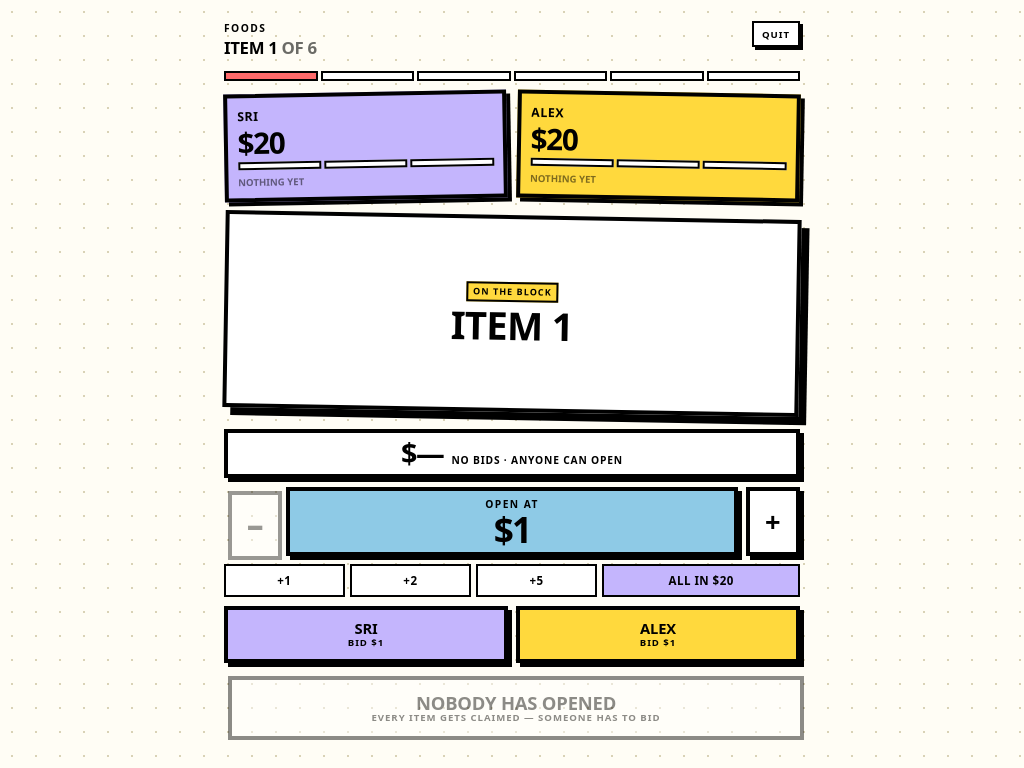
Scenario: BidScreen › records an opening bid and shows who leads
Expected: the text "No bids · anyone can open" is shown, x1=451 y1=453 x2=623 y2=467
Click the button "Sri bid $1". click: (366, 634)
box: x1=224 y1=606 x2=508 y2=663
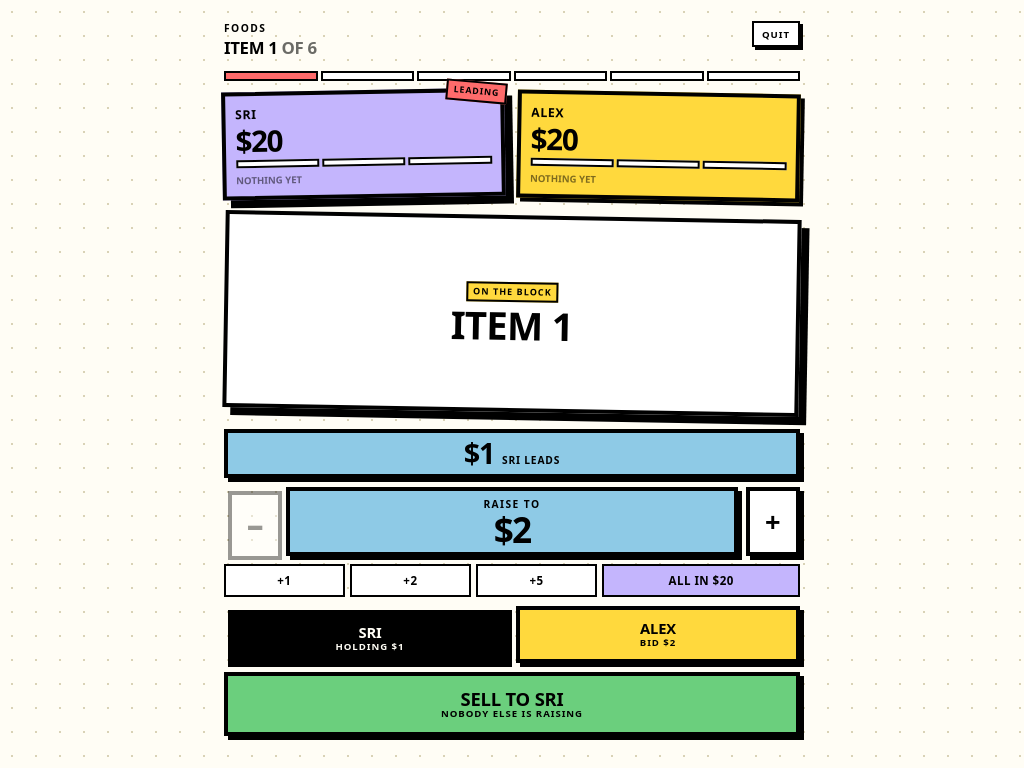
Expected: the text "Sri leads" is shown, x1=502 y1=453 x2=560 y2=467
